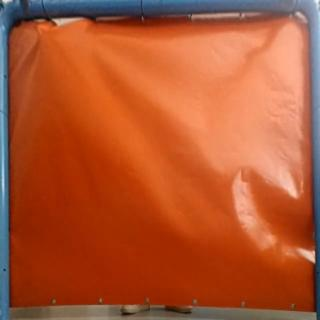Hit-hRxx: (34, 24, 51, 38)
